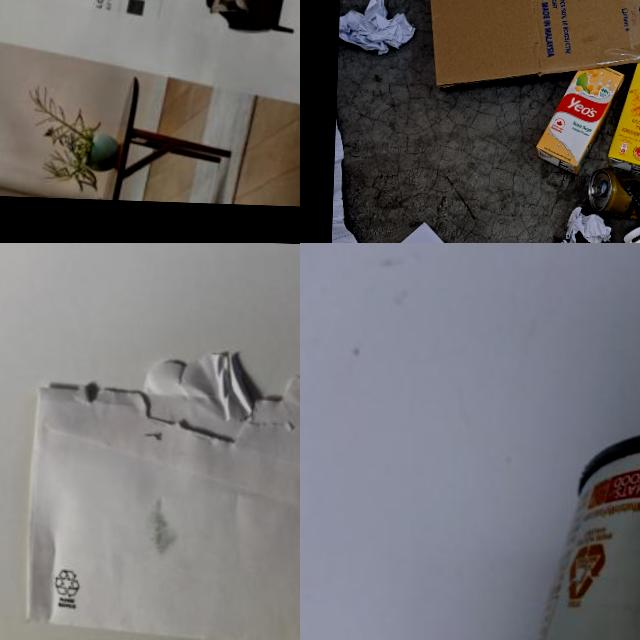aba de lata: (590, 182, 602, 195)
caixinha: (536, 62, 626, 175), (605, 60, 640, 177)
lata: (512, 418, 640, 640), (586, 166, 640, 221)
papel: (22, 336, 300, 640), (0, 0, 300, 209), (331, 59, 365, 243), (337, 0, 415, 56), (549, 206, 612, 243)
papelão: (406, 0, 640, 106)
tampa plástica: (623, 225, 640, 243)
